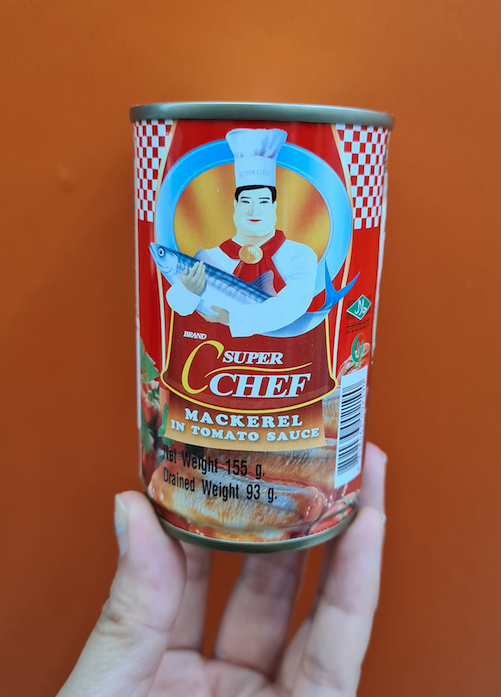Canned_Sardines_and_Mackerel: (131, 110, 367, 529)
